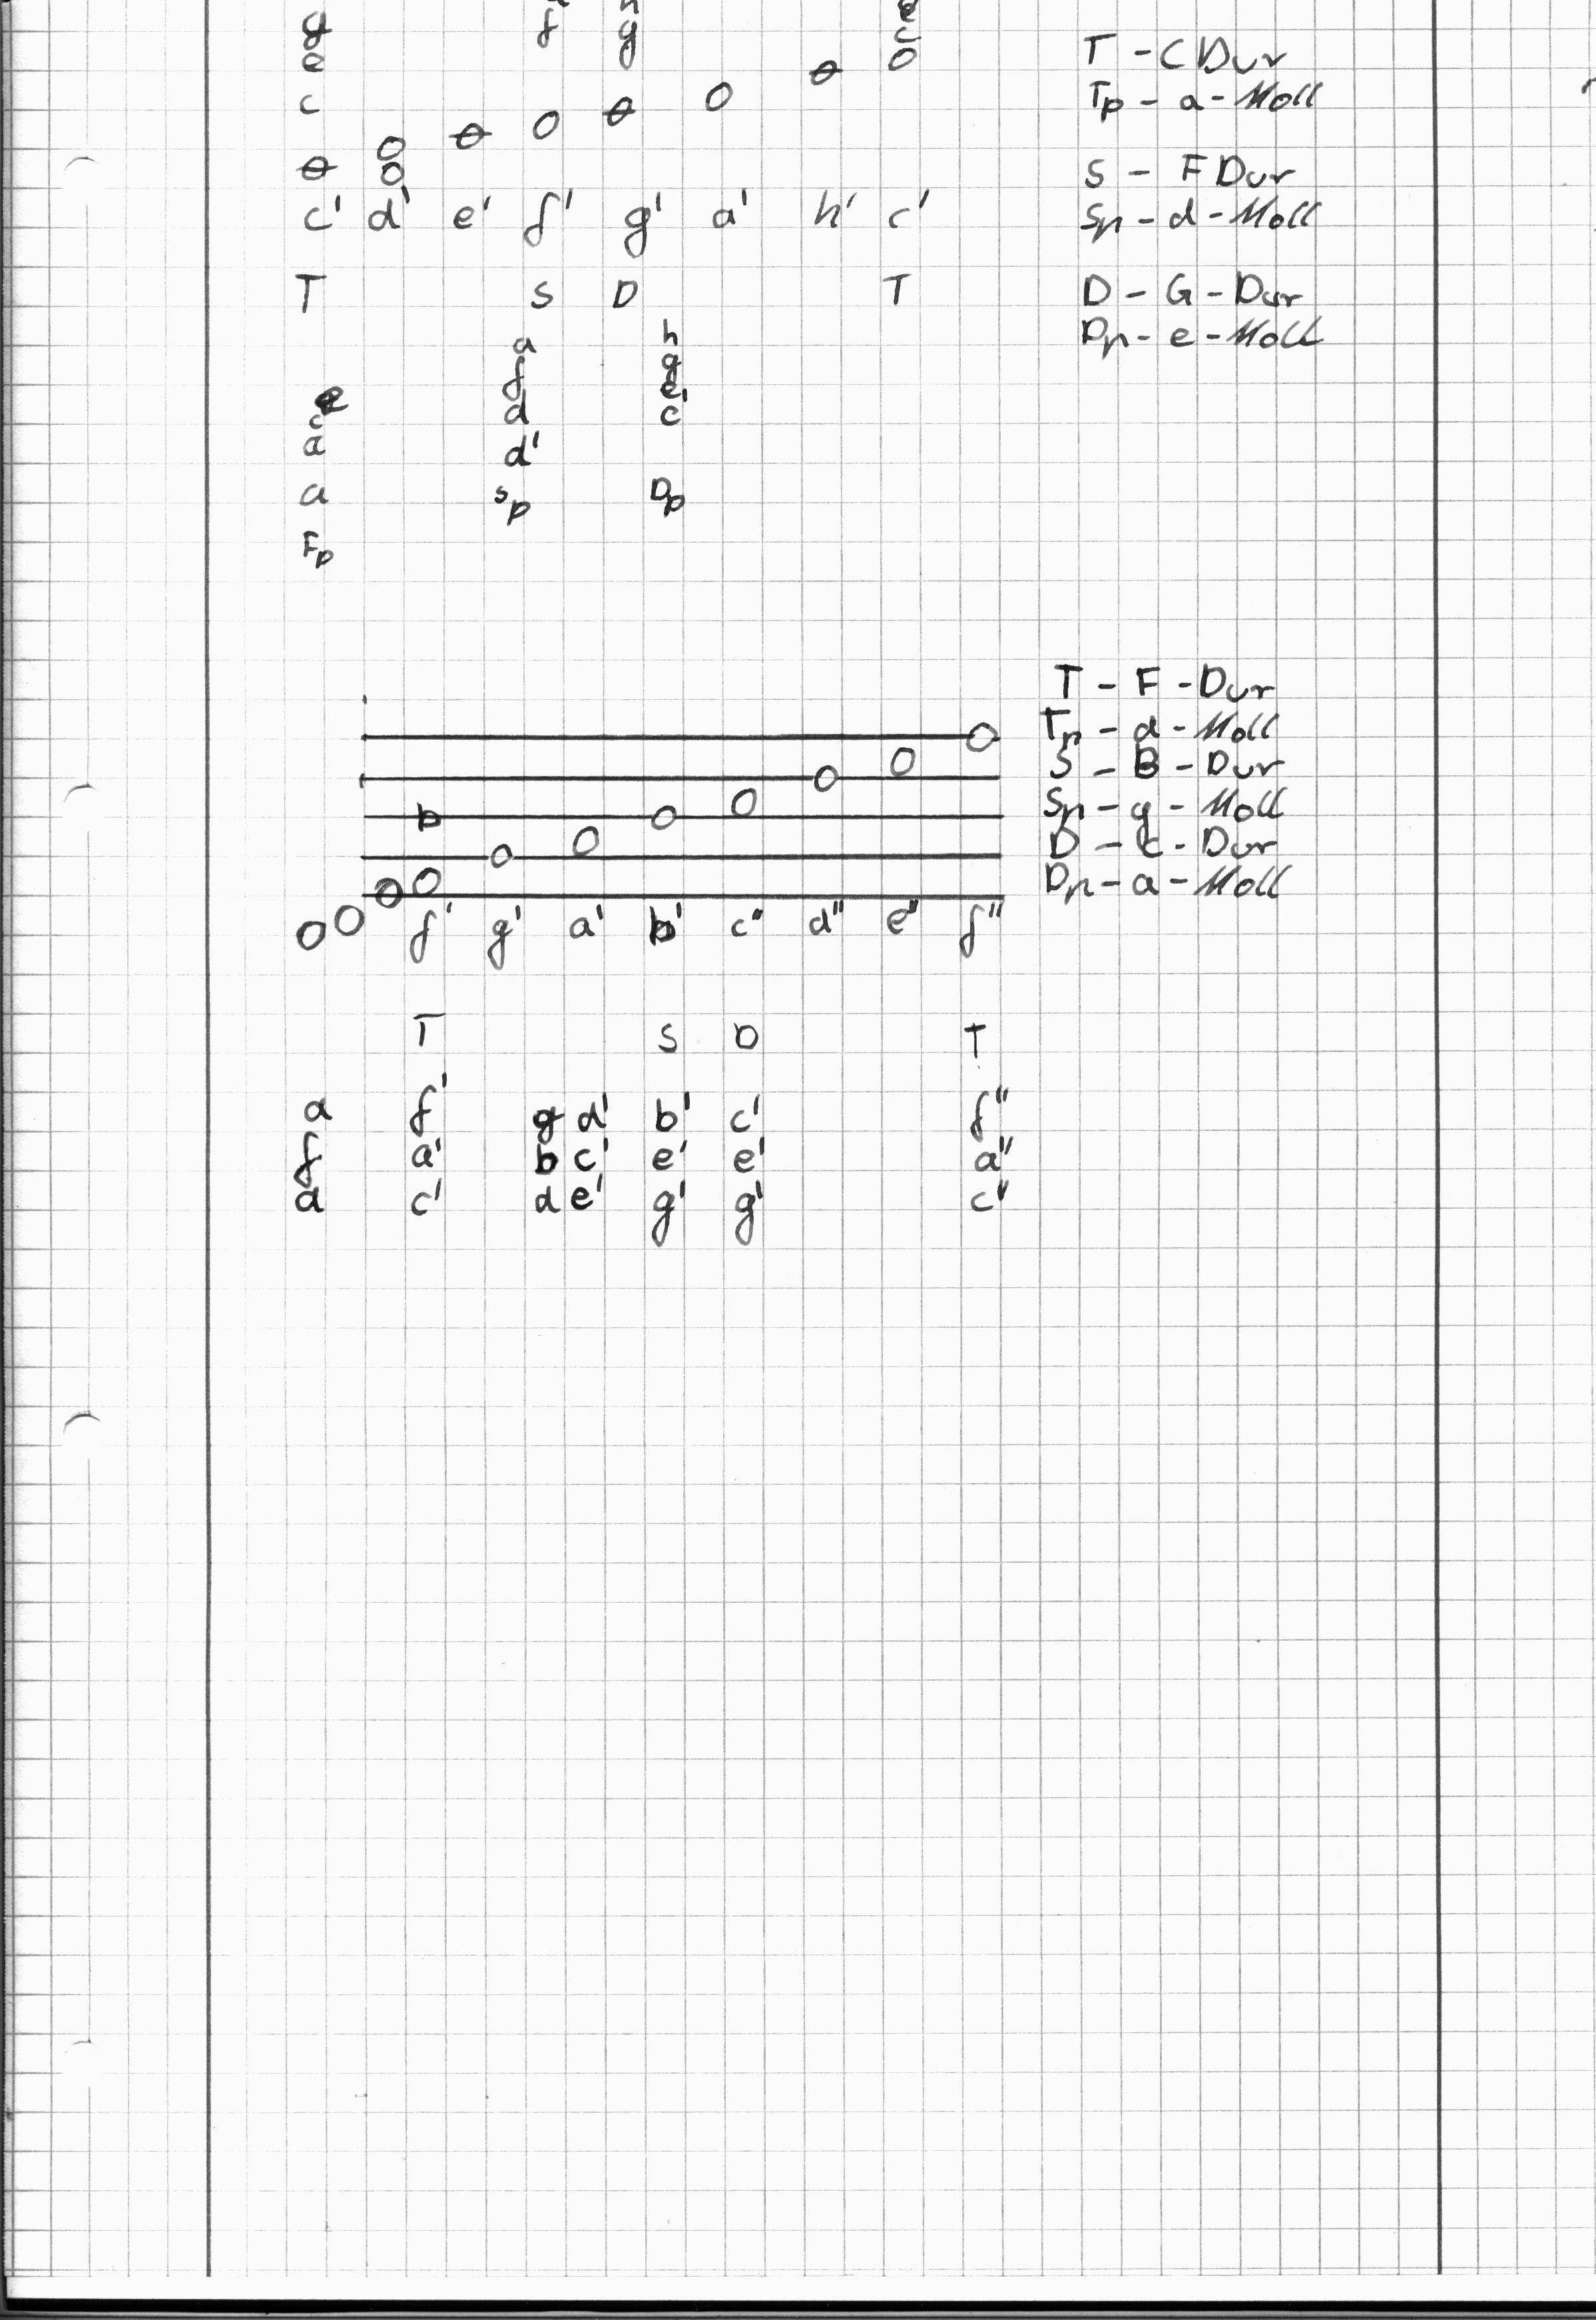word: (1029, 652, 1300, 922), (536, 1074, 800, 1257), (281, 1059, 464, 1239), (1071, 11, 1332, 133), (1069, 261, 1336, 376), (1073, 141, 1329, 256), (940, 1011, 1023, 1220), (481, 320, 559, 537), (294, 377, 364, 580), (642, 309, 699, 532), (642, 993, 782, 1071), (400, 996, 456, 1059)
